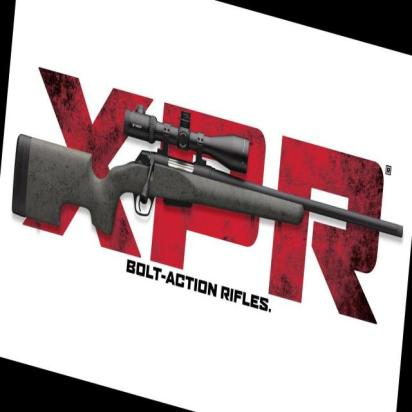Gun: (7, 73, 408, 320)
